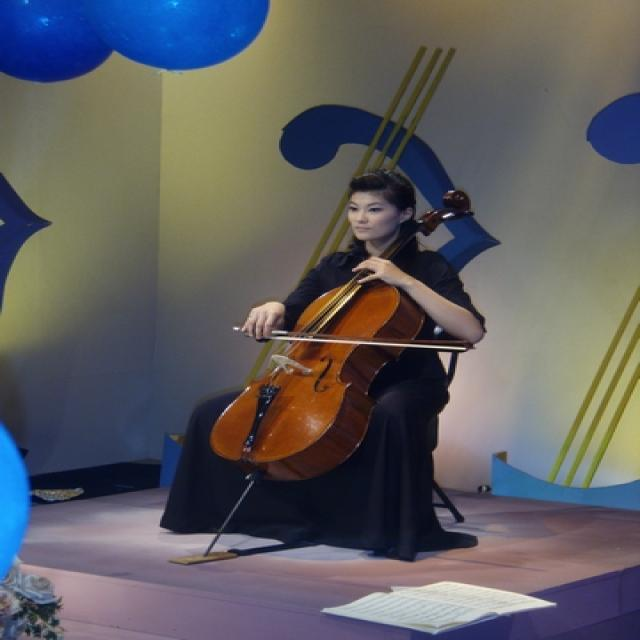cello: (211, 187, 473, 480)
